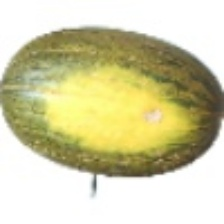honeydew: (28, 18, 197, 209)
